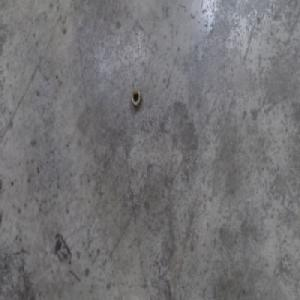Nut: (130, 88, 143, 109)
